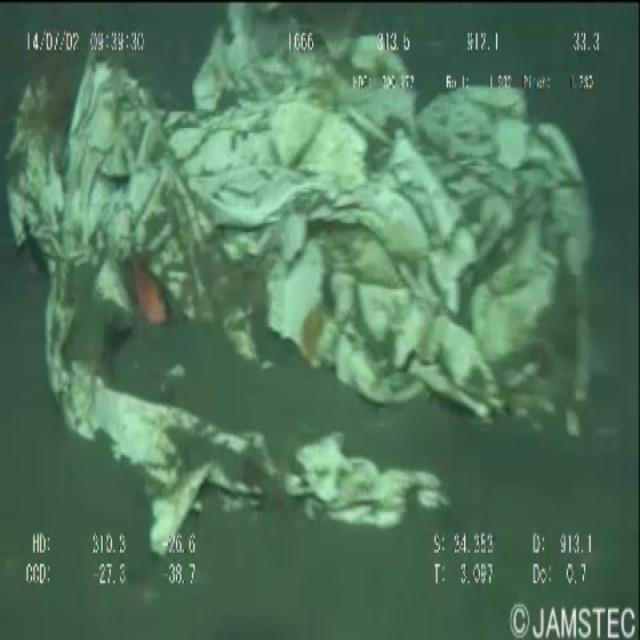Accessories: (1, 7, 606, 571)
